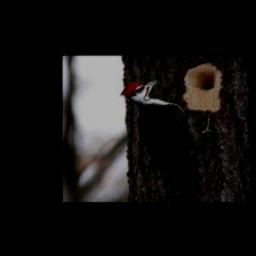Woodpecker: (121, 80, 218, 202)
